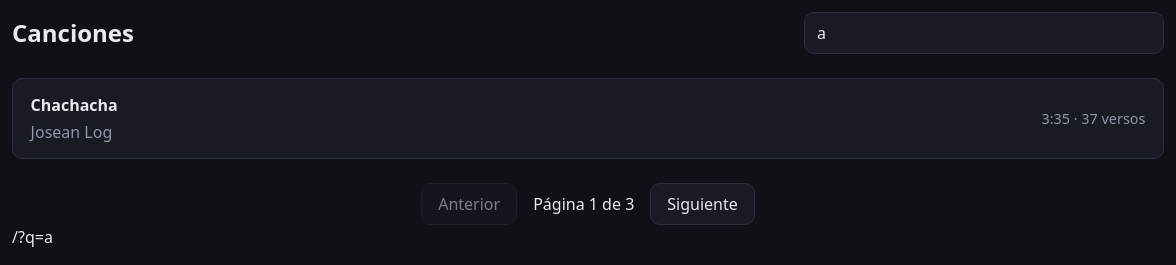
Scenario: CatalogPage › paginates
What coordinates should you click on to do the following:
click the button "Siguiente"
I would click on:
 (703, 204)
Its box is [650, 183, 755, 225].
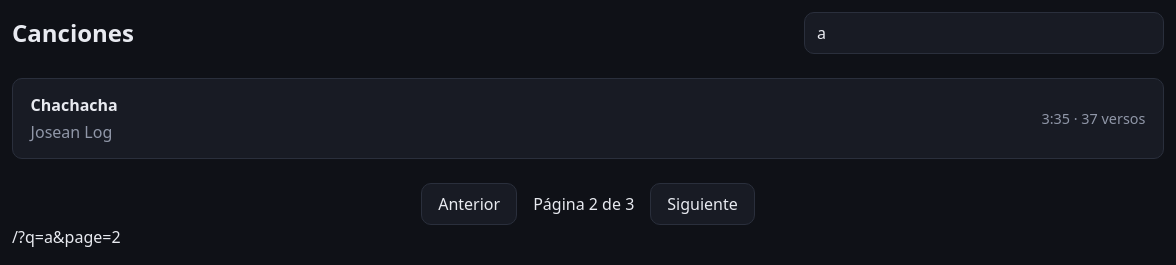
Result: the text "Página 2 de 3" is shown at [533, 192, 634, 216]
Result: the text with test id "location" reads "/?q=a&page=2" at [12, 226, 121, 248]
What coordinates should you click on to do the following:
click the button "Anterior"
I would click on:
 (469, 204)
Its box is [421, 183, 517, 225].
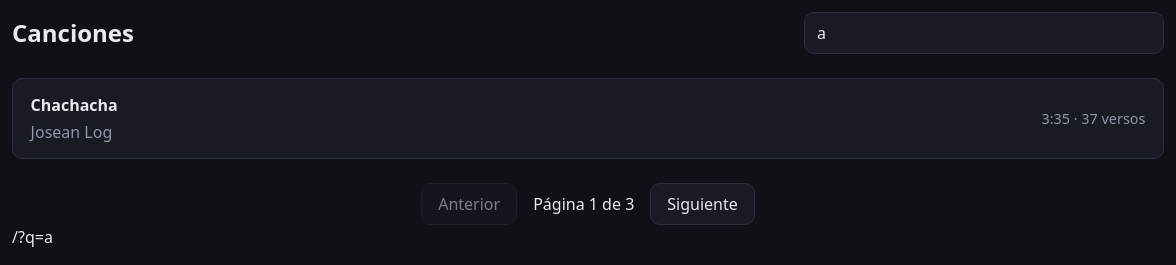
Expected: the text with test id "location" reads "/?q=a", [12, 226, 53, 248]
Result: the text "Página 1 de 3" is shown at [533, 192, 634, 216]
Result: the button "Anterior" is disabled at [421, 183, 517, 225]
